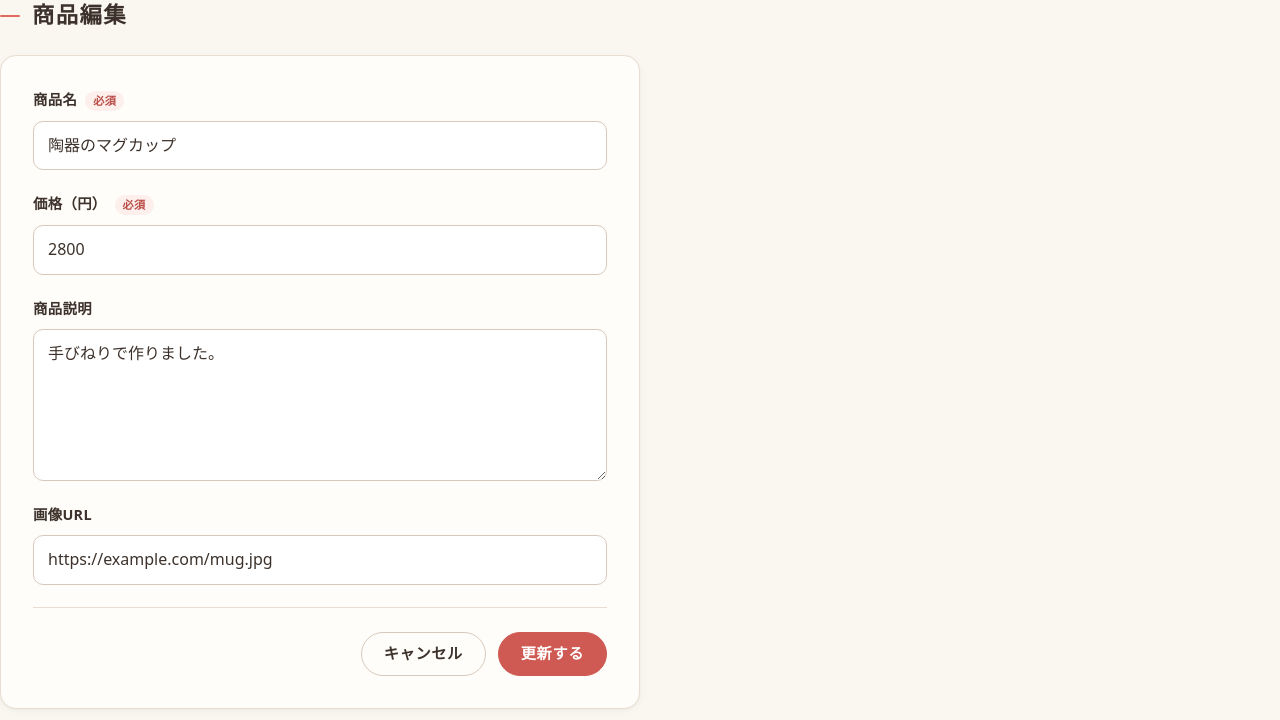
商品編集画面 › バックエンドの入力チェックで弾かれた場合は、項目ごとのエラーを表示する
Expected: the field labelled "商品名 必須" is shown, [33,121,607,170]
Click the button "更新する".
click(552, 654)  # box [498,632,607,676]
(page scrolled)
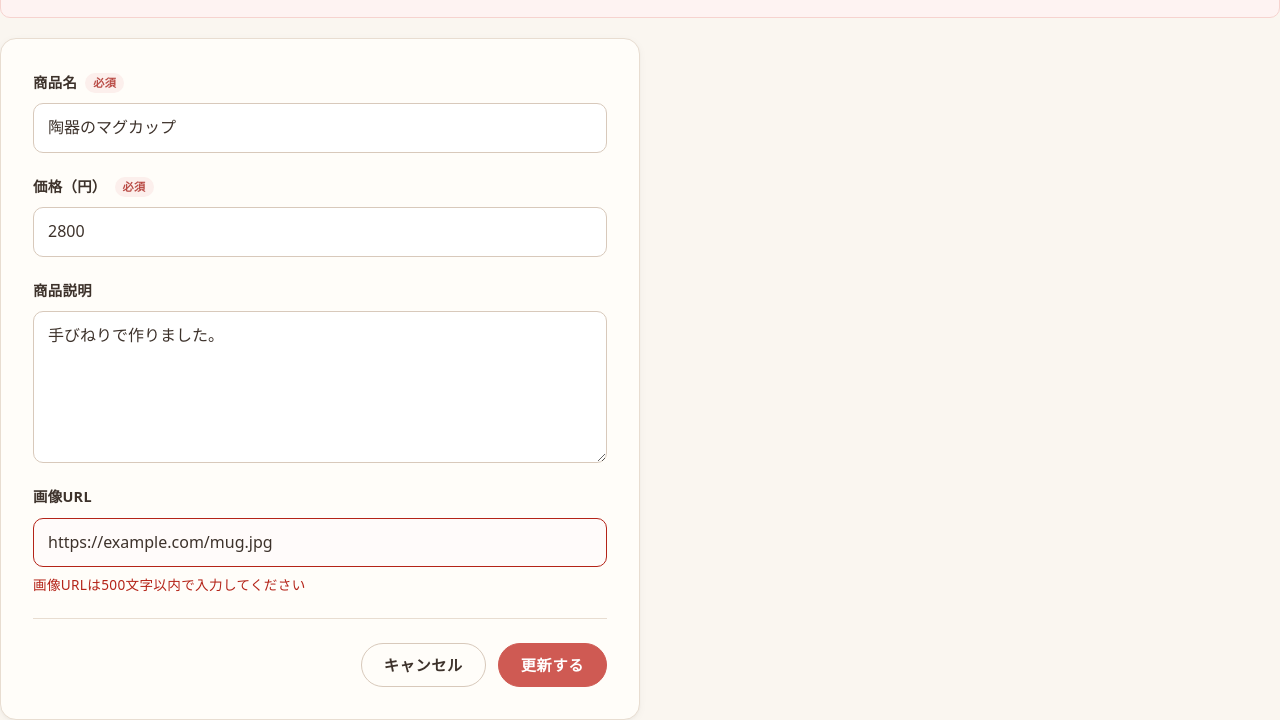
Result: the text "画像URLは500文字以内で入力してください" is shown at [33,575,306,594]
